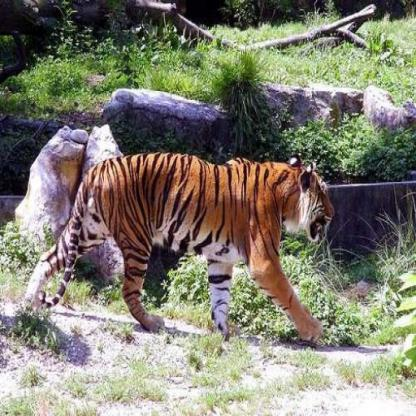Tiger: (11, 136, 373, 376)
